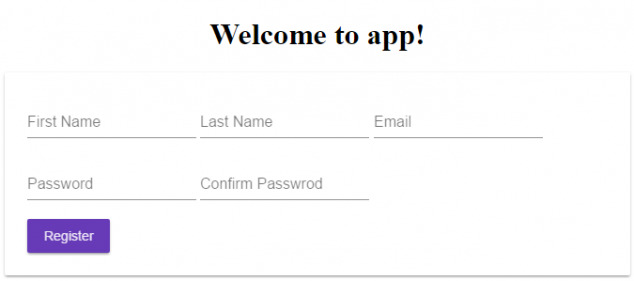_form_: (12, 1, 428, 281), (178, 1, 594, 281)
button: (26, 217, 112, 254)
field_line: (373, 112, 546, 140), (198, 112, 370, 140), (25, 112, 199, 139), (24, 175, 198, 202), (200, 176, 371, 202)
